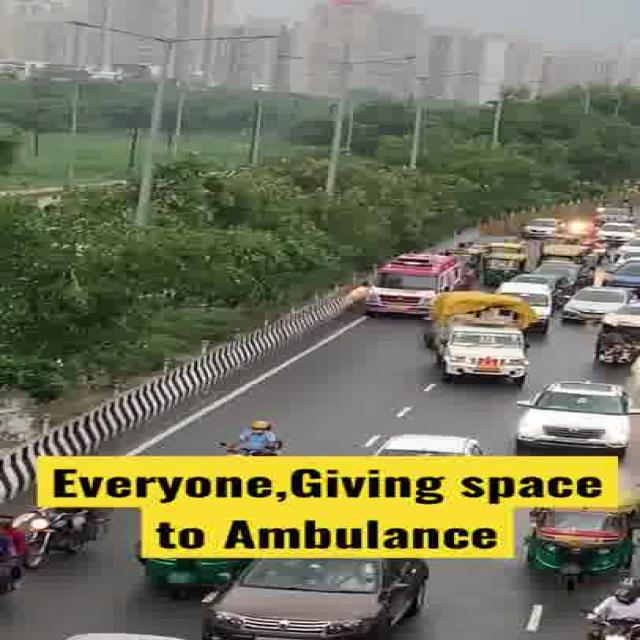ambulance: (364, 252, 464, 313)
